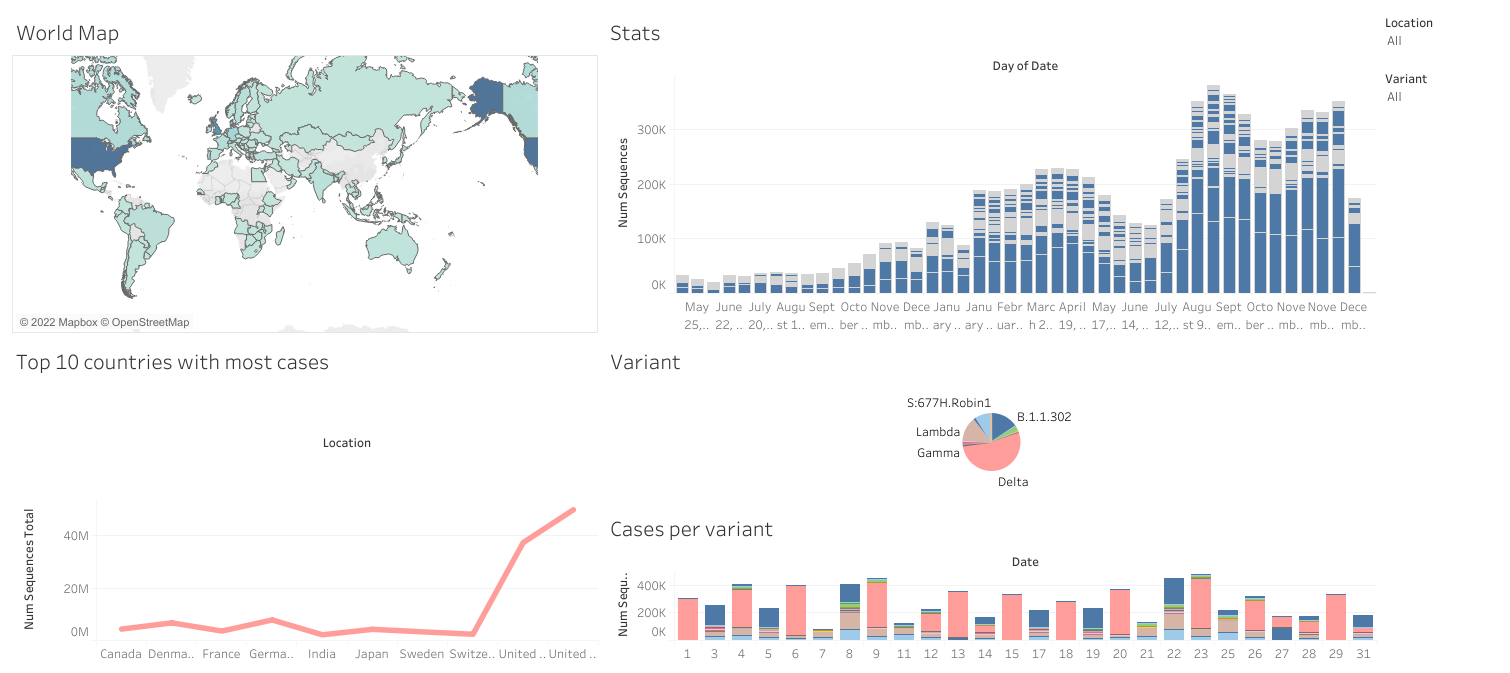

What the dashboard file says about the page in this screenshot:
{"tool":"tableau","page":{"name":"Dashboard 1","canvas":[1000,1000],"units":"permille","ordinal":0},"visuals":[{"type":"worksheet","title":"World Map","mark":"Automatic","box":[4.7,8.9,397.9,491.1]},{"type":"worksheet","title":"Stats","mark":"Bar","rows":["num_sequences"],"cols":["date"],"box":[402.6,8.9,521.4,491.1]},{"type":"filter","title":"Stats","param":"[federated.15eqt6s0ob1ely17jaaal1x0xzfl].[none:location:nk]","box":[923.9,8.9,71.4,58]},{"type":"filter","title":"Variant","param":"[federated.15eqt6s0ob1ely17jaaal1x0xzfl].[none:variant:nk]","box":[923.9,67,71.4,58]},{"type":"worksheet","title":"Top 10 countries with most cases","mark":"Line","rows":["num_sequences_total"],"cols":["location"],"box":[4.7,500,397.9,491.1]},{"type":"worksheet","title":"Variant","mark":"Pie","box":[402.6,500,521.4,250]},{"type":"worksheet","title":"Cases per variant","mark":"Bar","rows":["num_sequences"],"cols":["date"],"box":[402.6,750,521.4,241.1]}]}

Visuals, with their boxes on the dashboard's canvas, which has no fixed pixel size, in thousandths of its width and height (x1, y1, x2, y2). These are canvas units, not pixel positions in the 1510x673 screenshot, which may show the page scaled, cropped or inside an application window:
"World Map" worksheet: Rect(5, 9, 403, 500)
"Stats" worksheet (Bar marks): Rect(403, 9, 924, 500)
"Stats" filter: Rect(924, 9, 995, 67)
"Variant" filter: Rect(924, 67, 995, 125)
"Top 10 countries with most cases" worksheet (Line marks): Rect(5, 500, 403, 991)
"Variant" worksheet (Pie marks): Rect(403, 500, 924, 750)
"Cases per variant" worksheet (Bar marks): Rect(403, 750, 924, 991)
